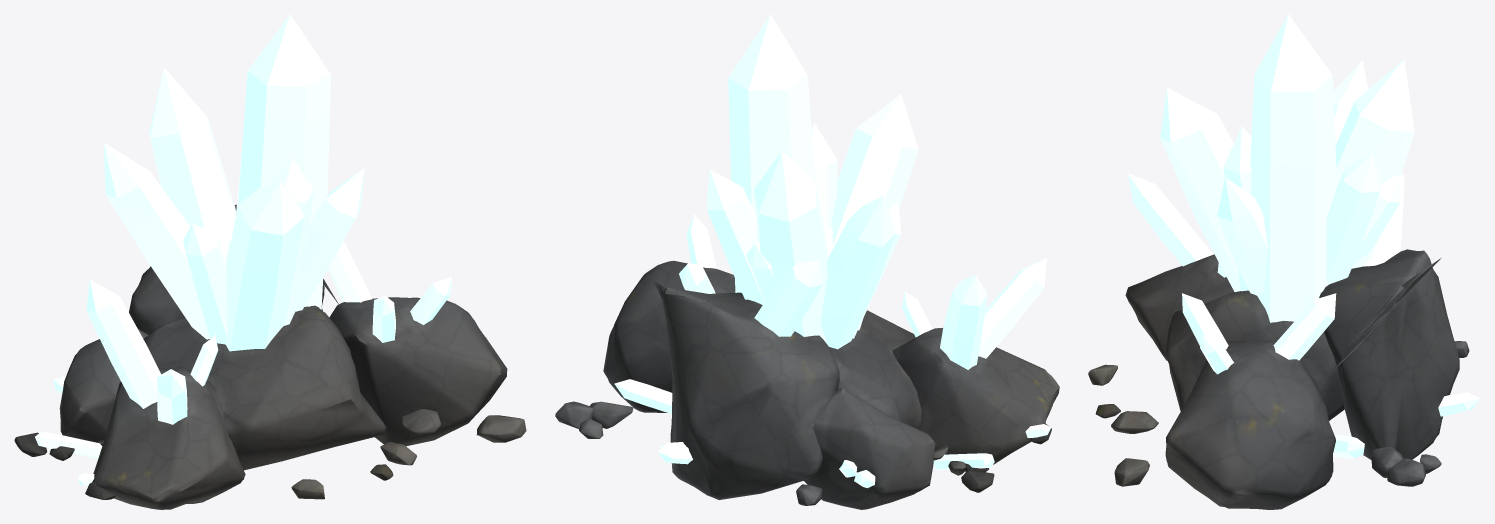
File: resonant_vein.glb
3 views of the same model, side by side, from view 1: azimuth 30°, elevation 25°; view 2: azimuth 150°, elevation 25°; view 3: azimuth 270°, elevation 25° (orthographic).
Parts seen in each view (by area): view 1: ResonantVein, RV_Crystal; view 2: ResonantVein, RV_Crystal; view 3: ResonantVein, RV_Crystal.
Part boxes in pixels (x1,y1,x2,y2): ResonantVein: (14, 204, 526, 509); RV_Crystal: (35, 14, 452, 485); ResonantVein: (555, 260, 1059, 509); RV_Crystal: (614, 14, 1050, 488); ResonantVein: (1088, 249, 1469, 509); RV_Crystal: (1128, 14, 1480, 458).
Size of the model in its own units: 3.19 by 3.07 by 2.5.
Materials: 2 (1 with a texture image).
